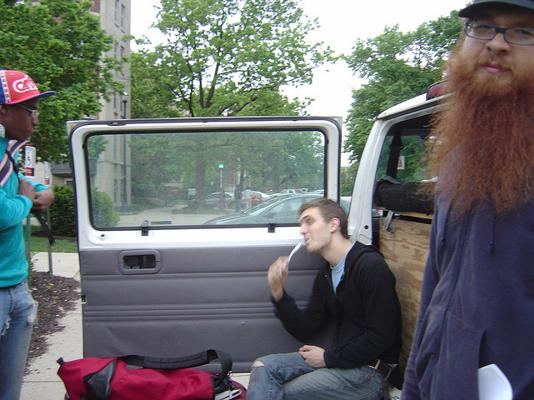person: (247, 198, 402, 400)
